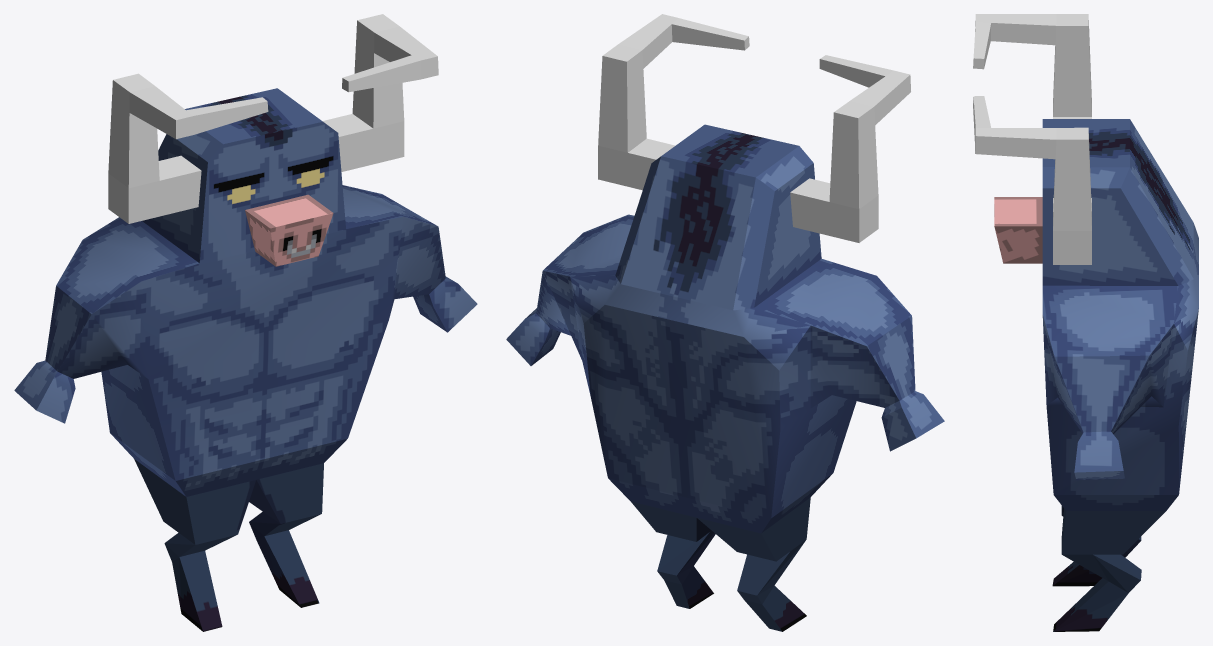
The model's file is LD_Barrel_01.FBX.
3 views of the same model, side by side, from view 1: azimuth 30°, elevation 25°; view 2: azimuth 150°, elevation 25°; view 3: azimuth 270°, elevation 25° (orthographic). The views are drawn at different scales.
Parts seen in each view (by area): view 1: Body, Left Horn001, Left Horn; view 2: Body, Left Horn001, Left Horn; view 3: Body, Left Horn, Left Horn001.
Boxes of the visible parts, bbox=[...] form: Body: bbox=[14, 88, 477, 631]; Left Horn001: bbox=[108, 73, 268, 223]; Left Horn: bbox=[322, 14, 438, 171]; Body: bbox=[506, 124, 944, 631]; Left Horn001: bbox=[790, 55, 910, 242]; Left Horn: bbox=[598, 14, 749, 190]; Body: bbox=[994, 119, 1198, 631]; Left Horn: bbox=[973, 96, 1091, 264]; Left Horn001: bbox=[973, 14, 1091, 118].
Bounding box in the file's own units: 2.21 × 2.67 × 1.03.
1 material, 1 textured.
